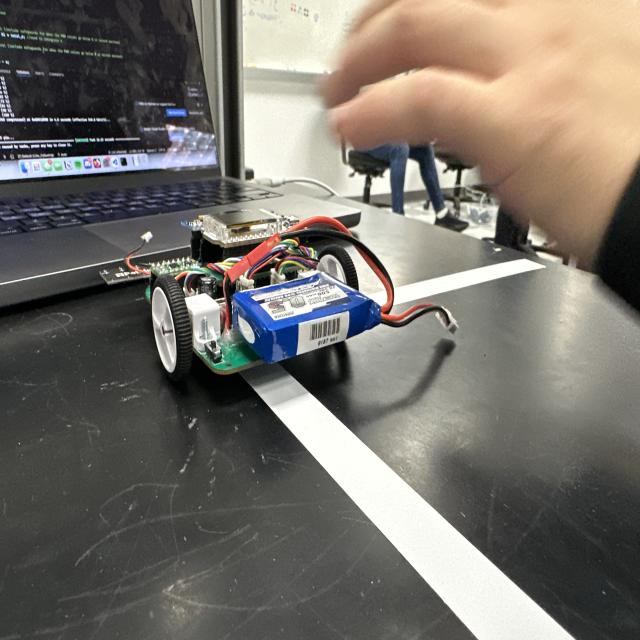robot: (103, 204, 459, 384)
